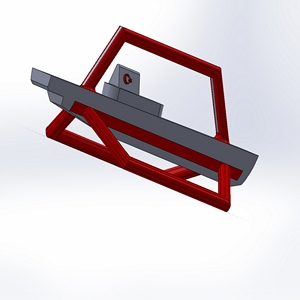submarine: (17, 8, 271, 230)
